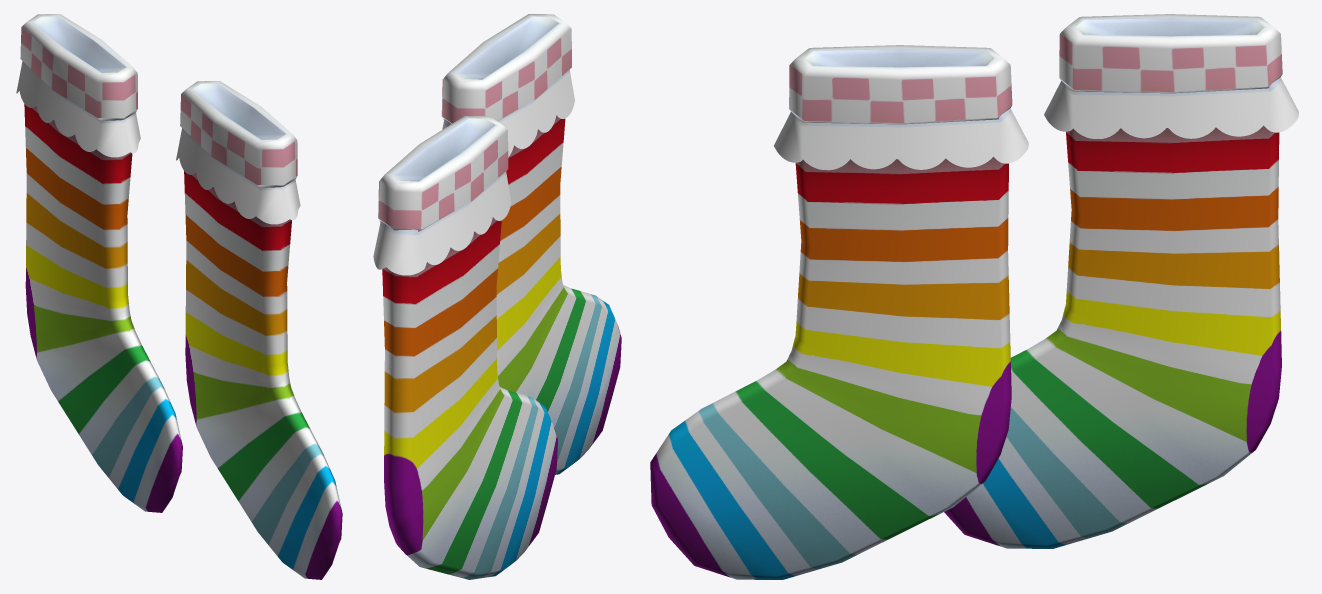
File: Sock.fbx
The picture shows the model from 3 angles, left to right: view 1: azimuth 30°, elevation 25°; view 2: azimuth 150°, elevation 25°; view 3: azimuth 270°, elevation 25°; orthographic projection. The views are drawn at different scales.
Parts seen in each view (by area): view 1: 082; view 2: 082; view 3: 082.
Part boxes in pixels (<box>): 082: <box>16,14,342,579</box>; 082: <box>373,14,621,579</box>; 082: <box>650,14,1298,579</box>.
Size of the model in its own units: 14.25 by 51.74 by 59.09.
Materials: 1 (1 with a texture image).
